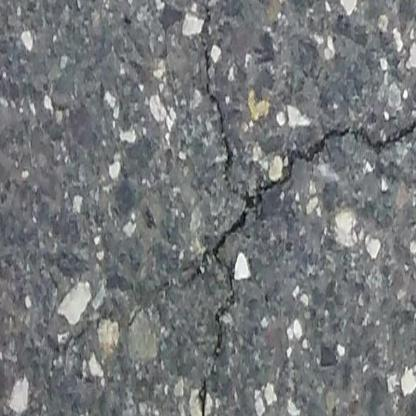Cracks: (193, 0, 416, 360)
